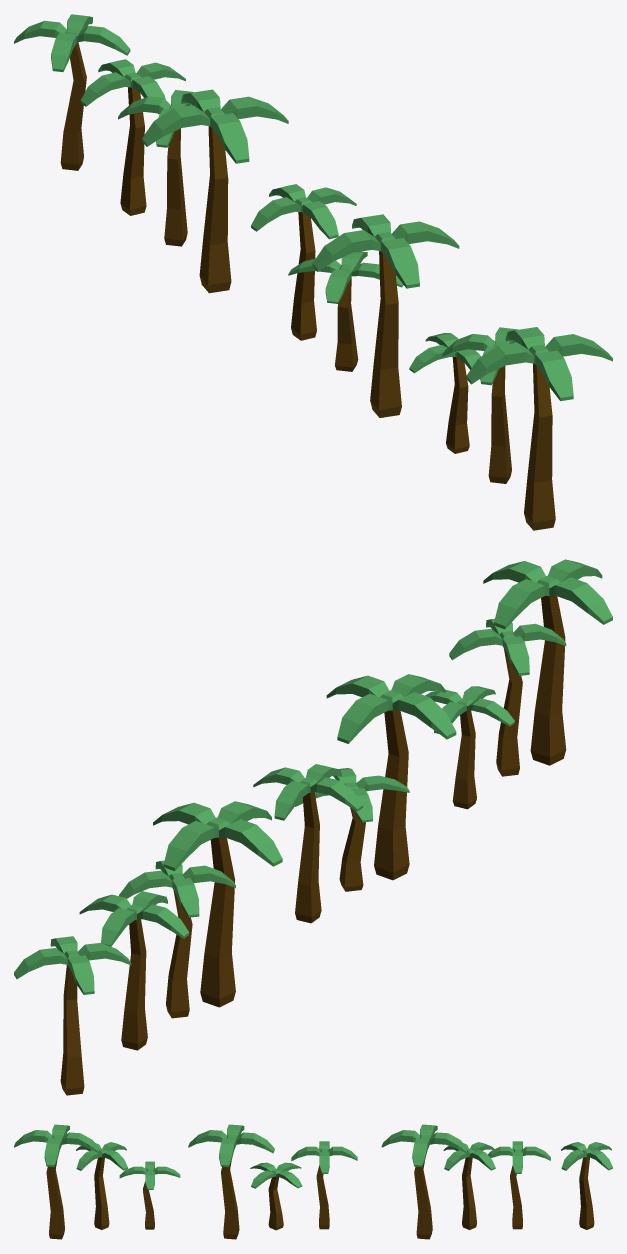
File: Map_summer_trees.fbx
The picture shows the model from 3 angles, top to bottom: view 1: azimuth 30°, elevation 25°; view 2: azimuth 150°, elevation 25°; view 3: azimuth 270°, elevation 25°; orthographic projection. The views are drawn at different scales.
Visible parts, largest first — view 1: Tree; view 2: Tree; view 3: Tree.
Boxes of the visible parts, x1,y1,x2,y2 form: Tree: (14, 14, 612, 530); Tree: (14, 559, 612, 1095); Tree: (14, 1124, 612, 1239).
Bounding box in the file's own units: 32.93 × 42.97 × 228.
